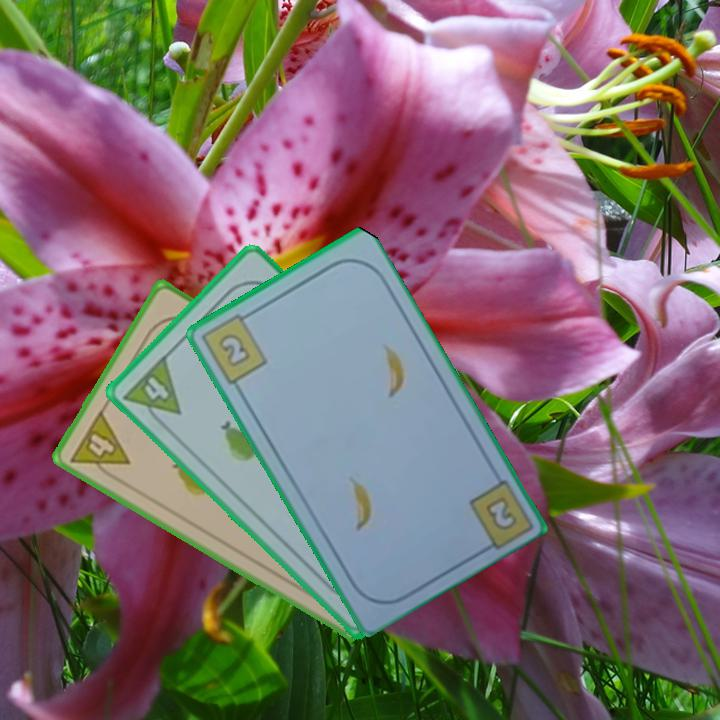2b: (198, 307, 270, 388), (481, 492, 520, 534)
4p: (66, 406, 133, 485), (119, 351, 184, 432)
